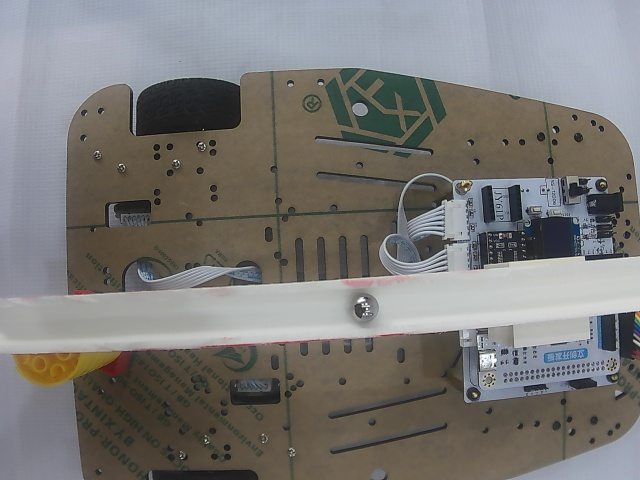steelball: (350, 291, 379, 323)
